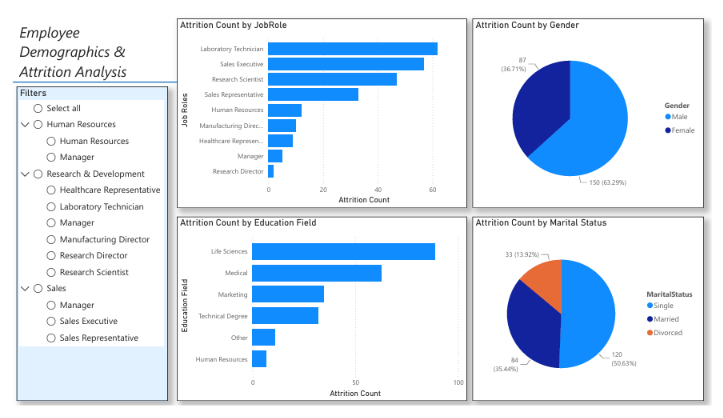

Layout of this report page (visuals, bound fields, positions):
{"tool":"powerbi","page":{"name":"Employee Insights","canvas":[1280,720],"ordinal":1},"visuals":[{"type":"clusteredBarChart","fields":{"Category":["hr_analytics_db v_hr_analytics_data.JobRole"],"Y":["_Metrics.Attrition Count"]},"box":[301.2,13.2,531.1,346.2],"z":0},{"type":"pieChart","fields":{"Category":["hr_analytics_db v_hr_analytics_data.Gender"],"Y":["_Metrics.Attrition Count"]},"box":[841.6,13.2,424.1,346.2],"z":1},{"type":"clusteredBarChart","title":"Attrition Count by Education Field","fields":{"Y":["_Metrics.Attrition Count"],"Category":["hr_analytics_db v_hr_analytics_data.EducationField"]},"box":[301.2,375.2,531.1,336.9],"z":2},{"type":"listSlicer","title":"Filters","fields":{"Values":["hr_analytics_db v_hr_analytics_data.Department","hr_analytics_db v_hr_analytics_data.JobRole"]},"box":[7.9,137.4,277.5,574.7],"z":3},{"type":"pieChart","title":"Attrition Count by Marital Status","fields":{"Category":["hr_analytics_db v_hr_analytics_data.MaritalStatus"],"Y":["_Metrics.Attrition Count"]},"box":[841.6,375.2,424.1,336.9],"z":4},{"type":"textbox","box":[7.9,13.2,277.5,124.2],"z":5},{"type":"shape","box":[1.3,85.9,299.9,85.9],"z":6}]}

Visuals, with their boxes in screenshot pixels (x1, y1, x2, y2), scaled from the page's 1280x720 canvas onto the 723x418 screenshot:
clusteredBarChart - hr_analytics_db v_hr_analytics_data.JobRole x _Metrics.Attrition Count: region(170, 8, 470, 209)
pieChart - hr_analytics_db v_hr_analytics_data.Gender x _Metrics.Attrition Count: region(475, 8, 715, 209)
"Attrition Count by Education Field" clusteredBarChart: region(170, 218, 470, 413)
"Filters" listSlicer: region(4, 80, 161, 413)
"Attrition Count by Marital Status" pieChart: region(475, 218, 715, 413)
textbox: region(4, 8, 161, 80)
shape: region(1, 50, 170, 100)
